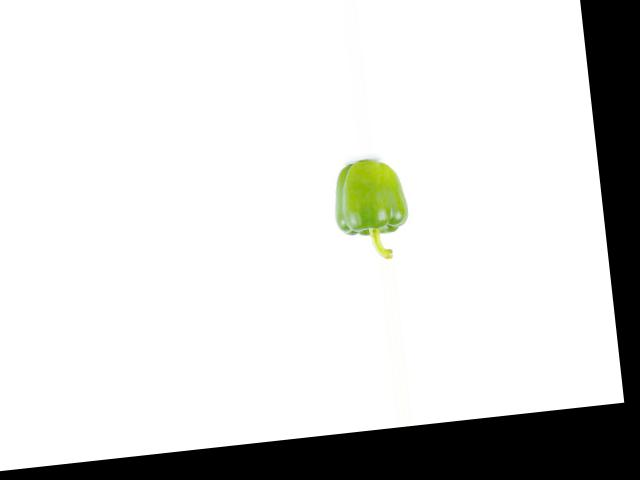bell_pepper: (318, 155, 414, 262)
